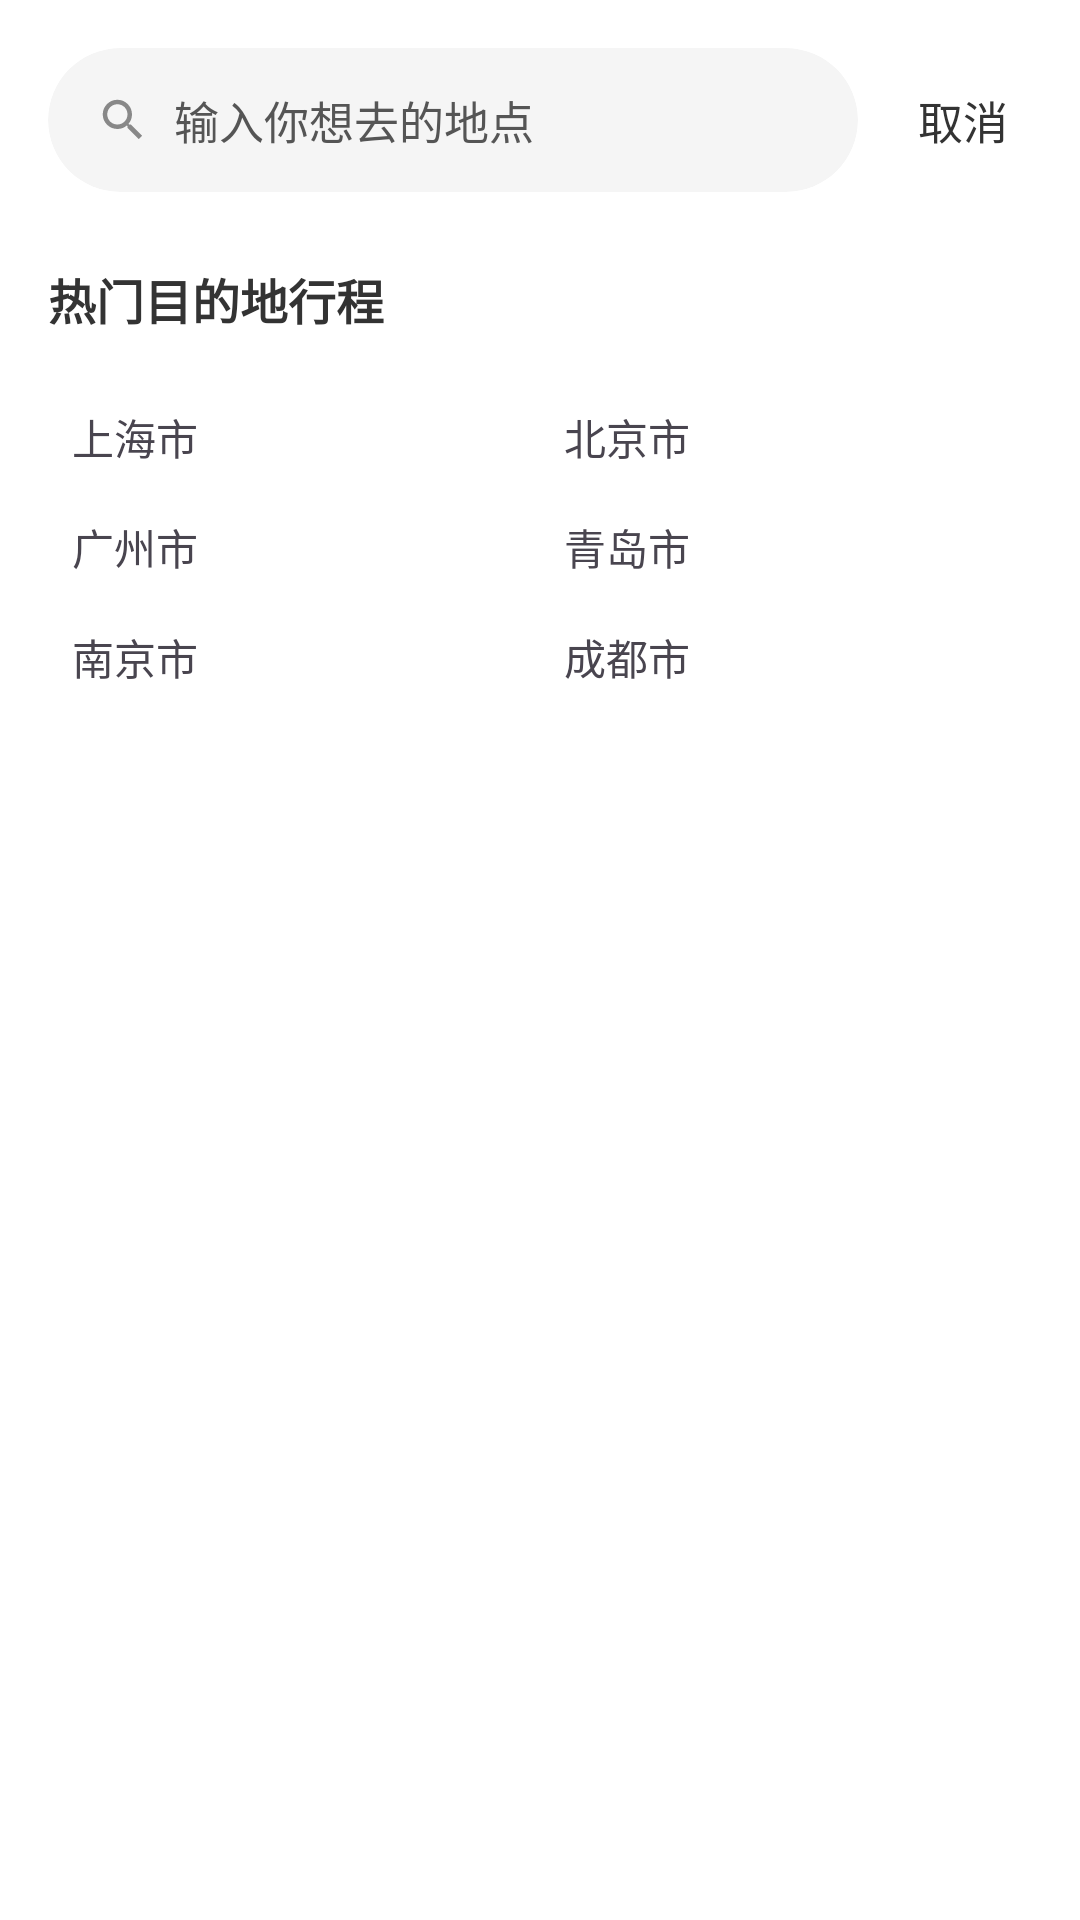

Locate icon controls on the screen. Image size 1080*1920, boxes as detection(x1, y1, x2, y2).
search: detection(102, 99, 142, 139)
